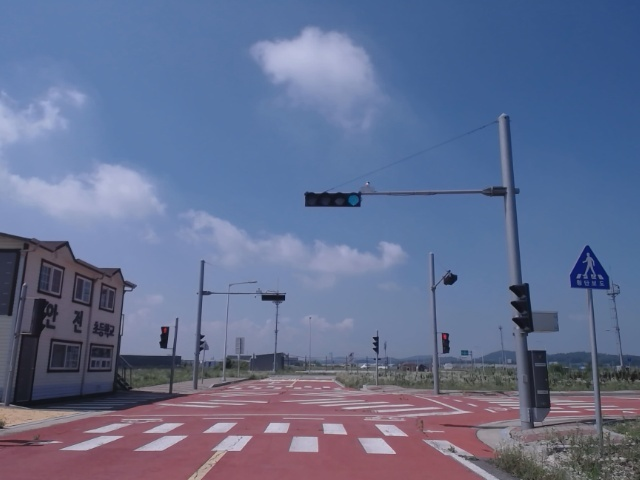straight_green_4: (303, 191, 364, 209)
